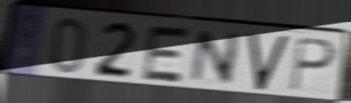0: (47, 16, 89, 76)
2: (95, 20, 139, 81)
E: (139, 24, 194, 86)
N: (187, 29, 244, 87)
P: (288, 35, 338, 94)
V: (246, 32, 291, 93)
